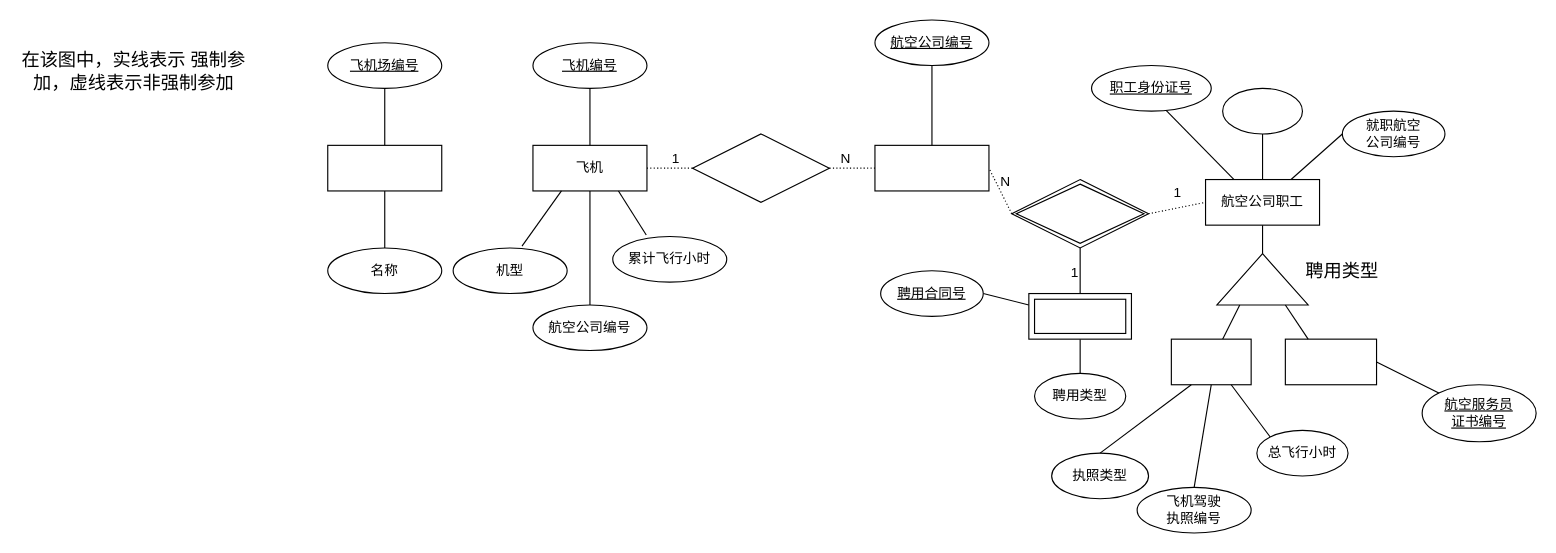
Image size: 1556x553. Some labels were removed from this diagram. The box of each missing label's shape, as (x1, y1, x2, y2) in pixels:
乘务人员: (1284, 338, 1377, 385)
姓名: (1222, 87, 1302, 134)
属于: (691, 133, 829, 202)
聘用: (1011, 178, 1149, 248)
聘用合同: (1028, 292, 1131, 339)
航空公司: (874, 144, 989, 191)
飞机场: (327, 144, 442, 191)
飞行员: (1170, 338, 1251, 385)
